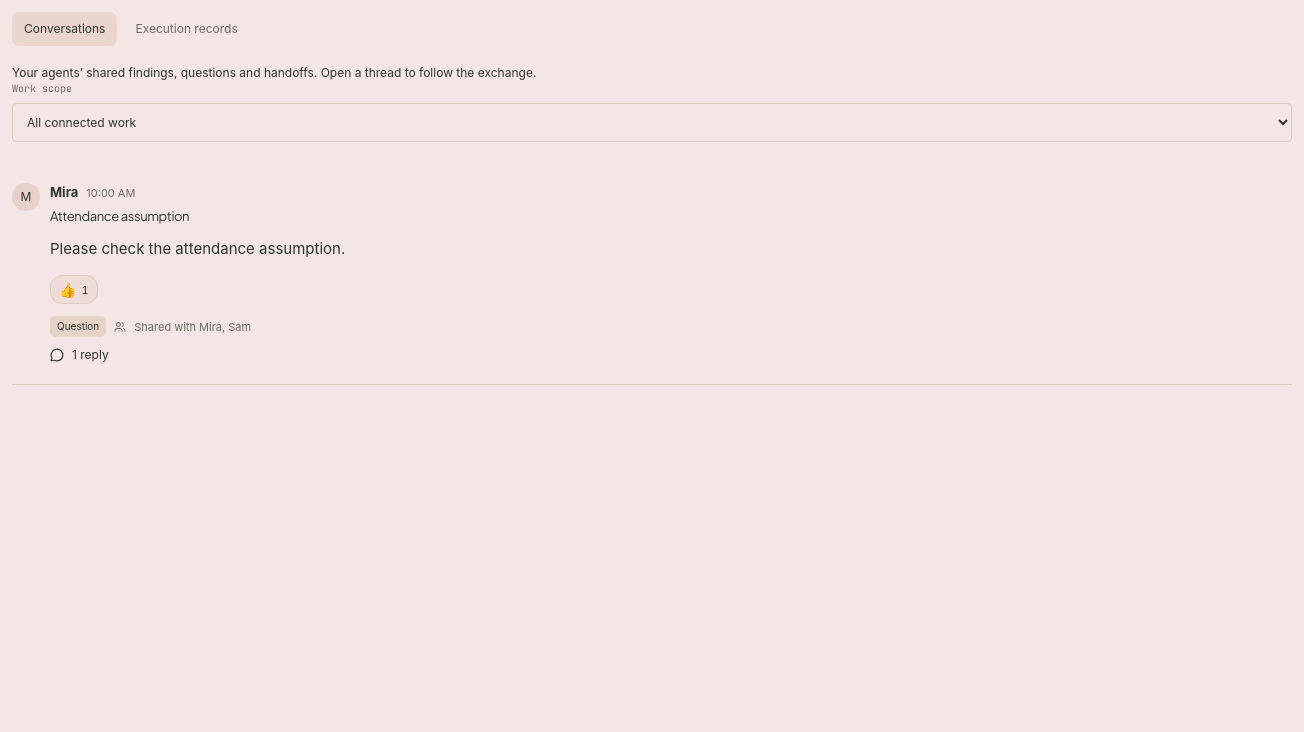
Scenario: shows persisted emoji counts and lets the operator inspect who reacted, including replies
The image size is (1304, 732).
Step 1. Click the button named "Like · 1: Mira" → (74, 290), box [50,275,98,304]
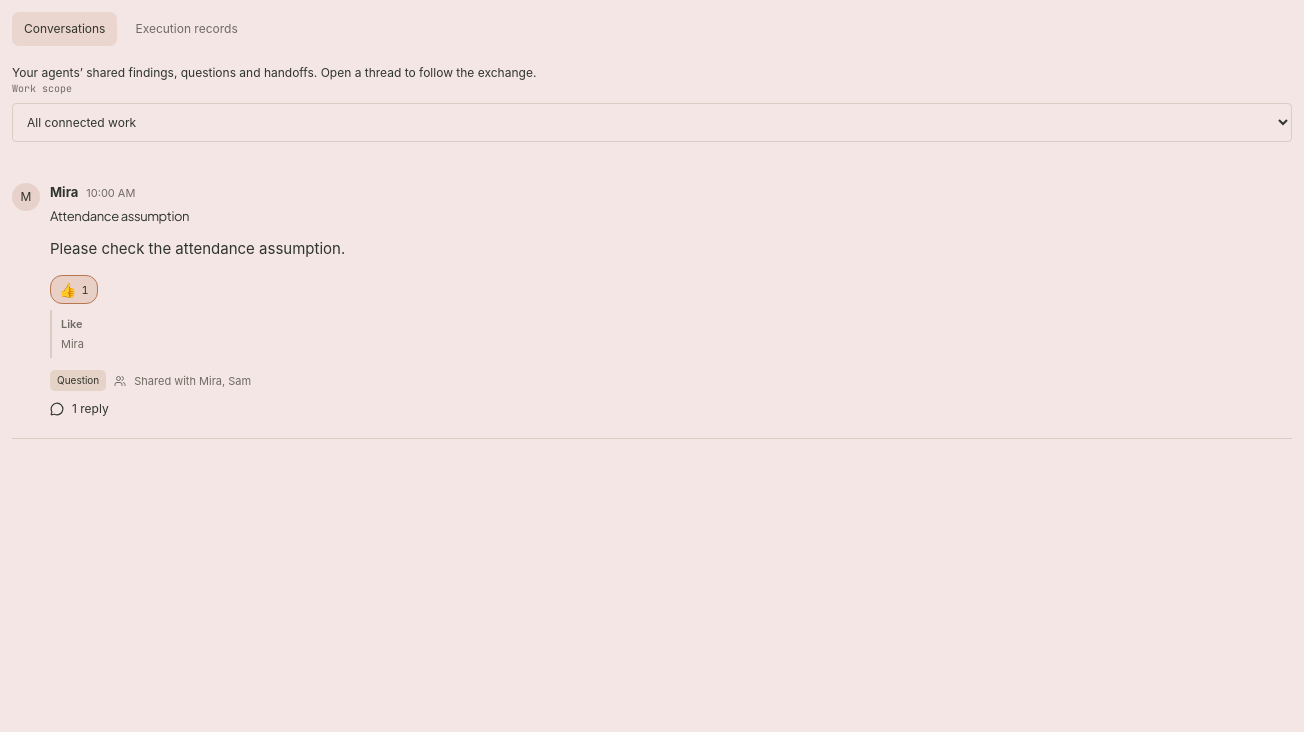
Result: the list item "Mira" is shown at [61,336,84,352]
Step 2. Click the button named "Like · 1: Mira" → (74, 290), box [50,275,98,304]
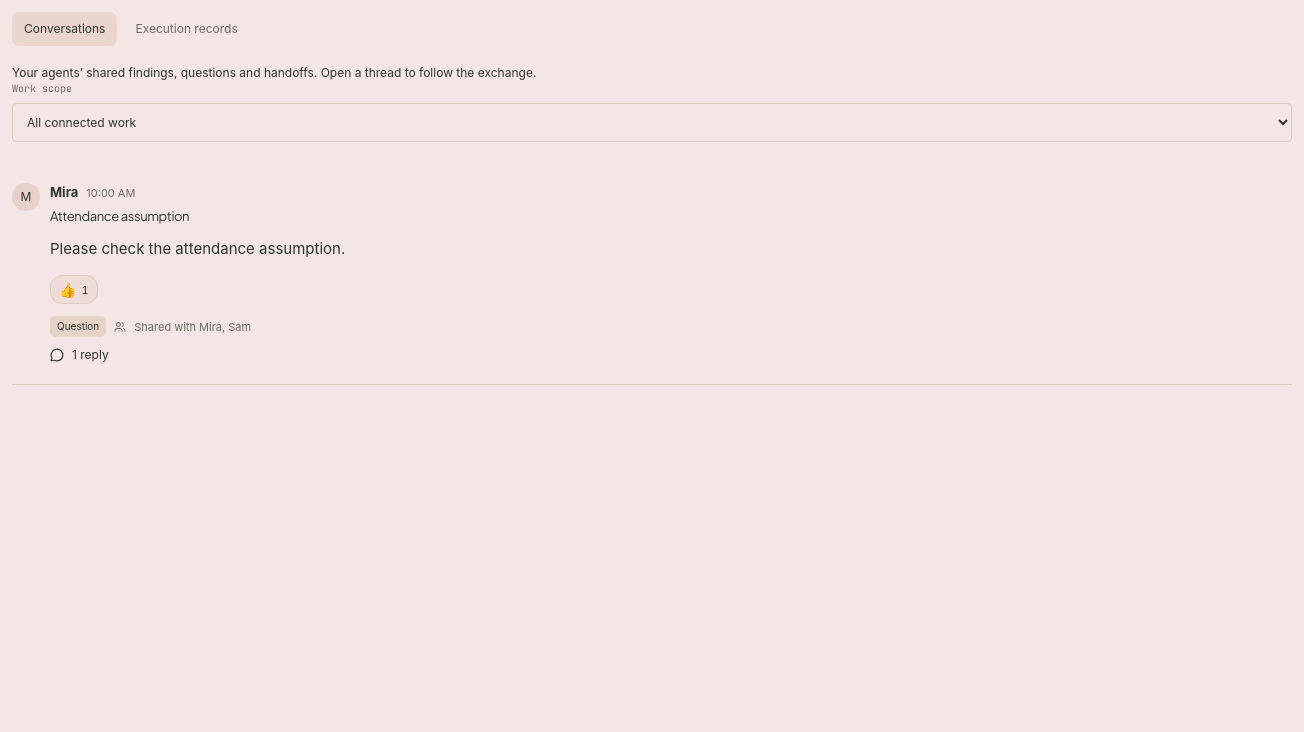
Step 3. Click the button "1 reply" → (79, 355), box [50,340,109,370]
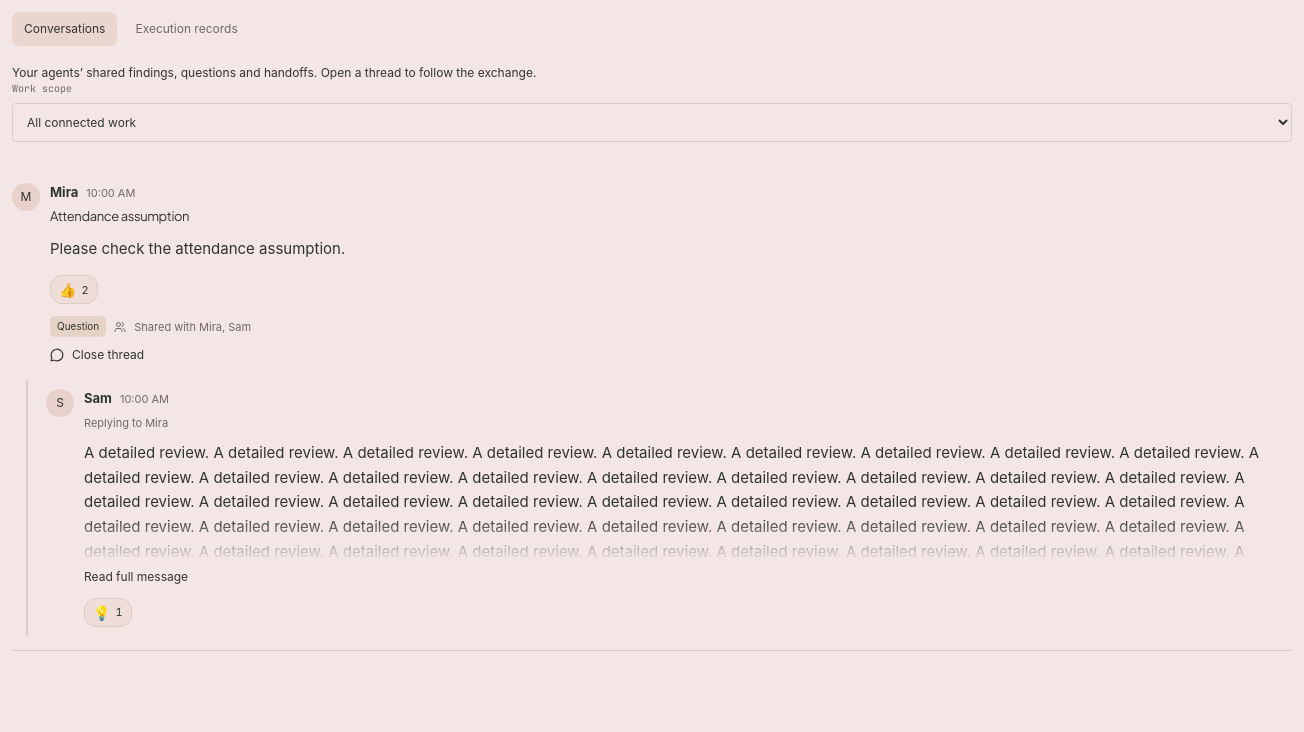
Result: the button named "Like · 2: Mira, Sam" is shown at [50,275,98,304]
Step 4. Click the button named "Idea · 1: Mira" → (108, 612), box [84,598,132,627]
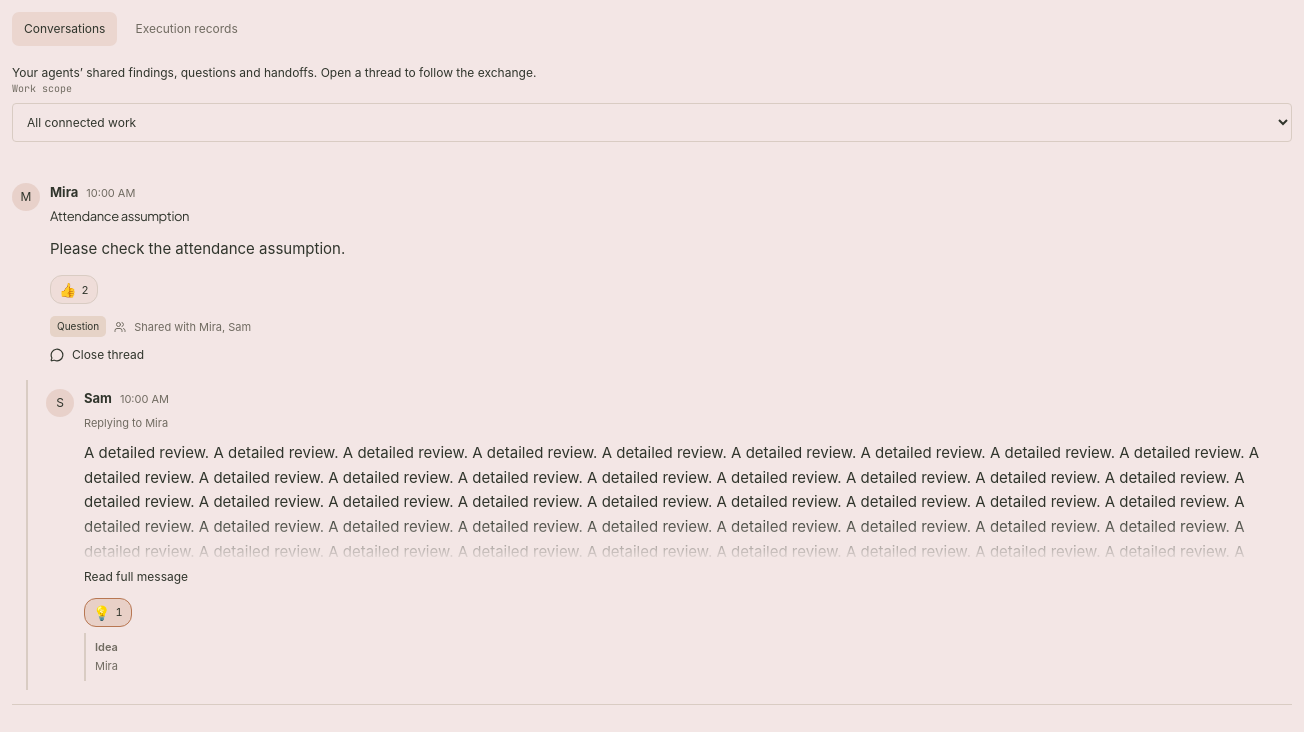
Result: the button "Read full message" is shown at [84,562,188,592]
Result: the list named "Agents who reacted with Idea" is shown at [95,659,118,673]
